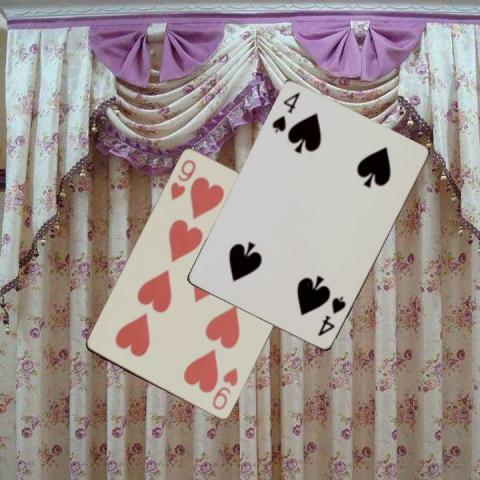4s: (269, 90, 302, 135), (315, 293, 347, 338)
9h: (209, 365, 240, 412), (168, 157, 198, 202)
